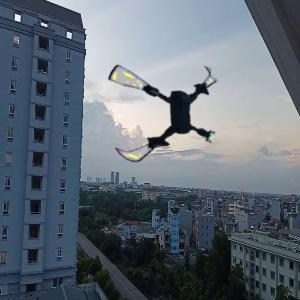drone: (100, 50, 222, 172)
